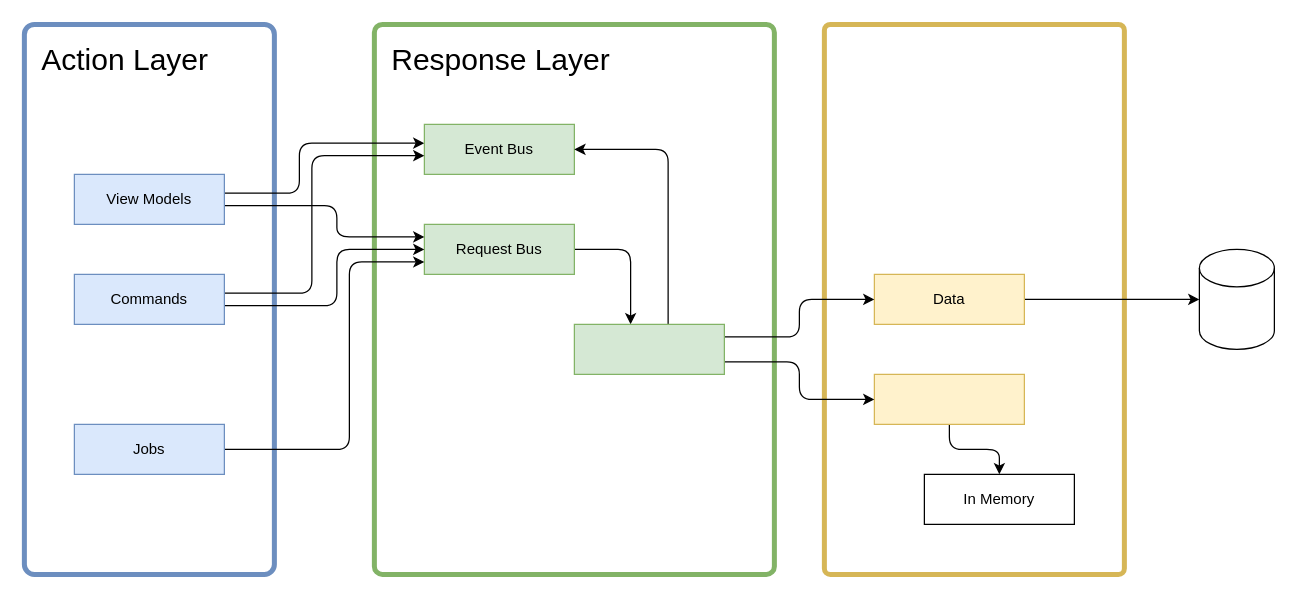
Image size: 1296x598. Some labels were removed from this diagram. The box of each missing label's shape, as (x1, y1, x2, y2) in pixels:
Data Layer: (821, 21, 1126, 576)
DB: (1198, 248, 1274, 349)
State: (873, 373, 1024, 424)
Use Cases: (573, 323, 724, 374)
